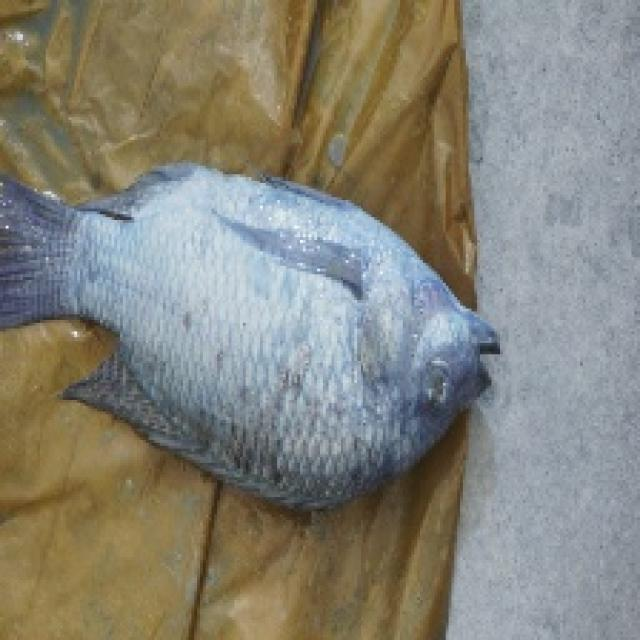Non-Fresh: (86, 158, 514, 515)
